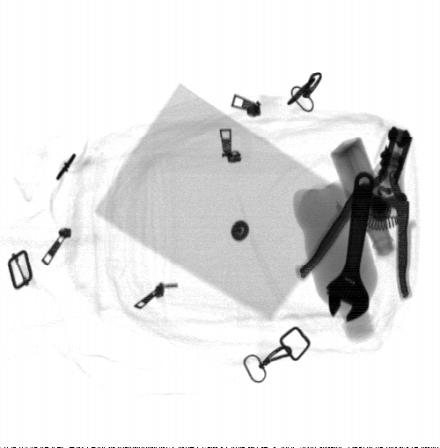Pliers: (298, 124, 414, 300)
Wrench: (324, 171, 374, 322)
